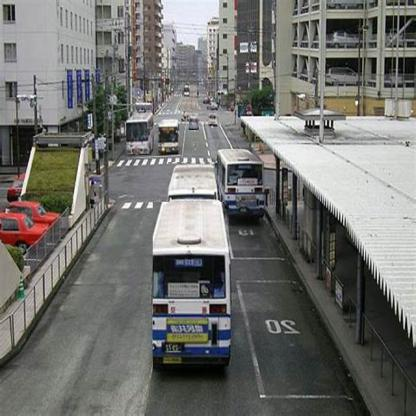bus: (153, 203, 230, 374), (222, 148, 266, 221), (169, 163, 216, 200), (126, 113, 154, 157), (159, 118, 181, 155)
car: (2, 217, 48, 246), (10, 198, 62, 221), (190, 116, 199, 132), (210, 114, 220, 126)
